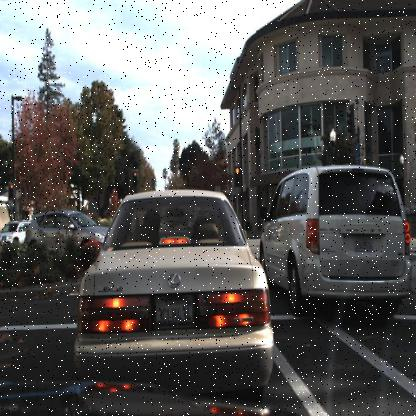car: (74, 185, 270, 385), (258, 159, 411, 320), (22, 208, 110, 258), (0, 220, 30, 248), (0, 218, 25, 248)
trafficLight-Red: (234, 165, 241, 188), (8, 181, 15, 200), (131, 169, 138, 188)
